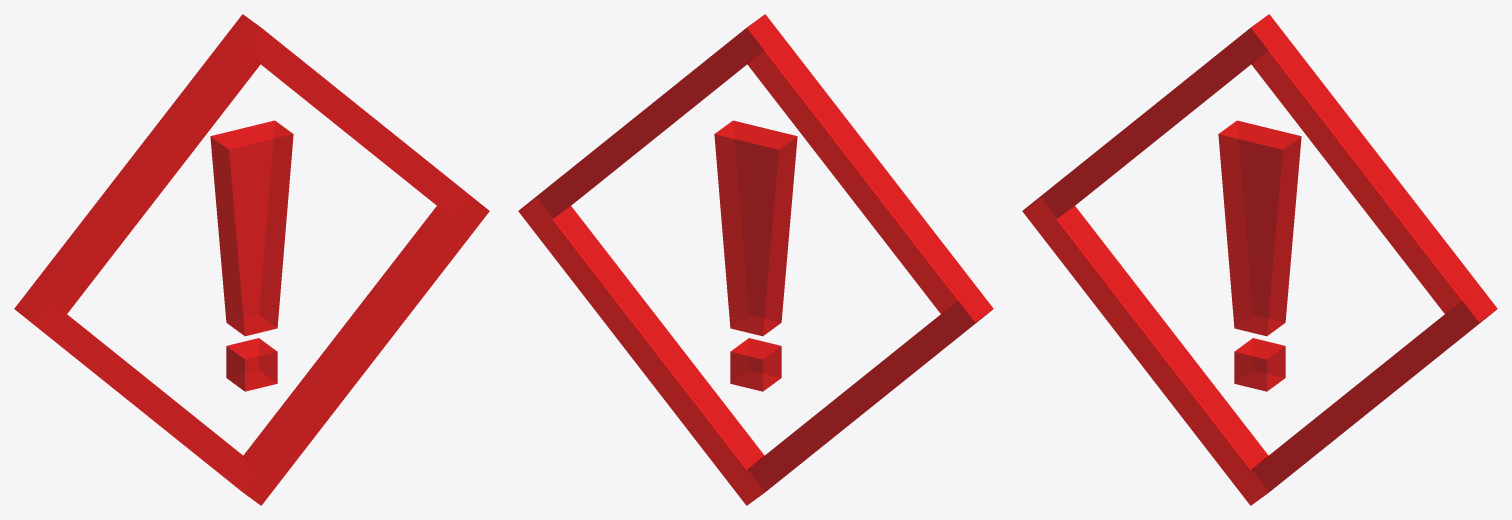
Rendered from Error.fbx.
The picture shows the model from 3 angles, left to right: view 1: azimuth 30°, elevation 25°; view 2: azimuth 150°, elevation 25°; view 3: azimuth 330°, elevation 25°; orthographic projection.
Visible parts, largest first — view 1: Mesh_Error; view 2: Mesh_Error; view 3: Mesh_Error.
Part boxes in pixels (x1=…): Mesh_Error: x1=14, y1=14, x2=489, y2=505; Mesh_Error: x1=518, y1=14, x2=993, y2=505; Mesh_Error: x1=1022, y1=14, x2=1497, y2=505.
Bounding box in the file's own units: 200 × 200 × 14.14.
